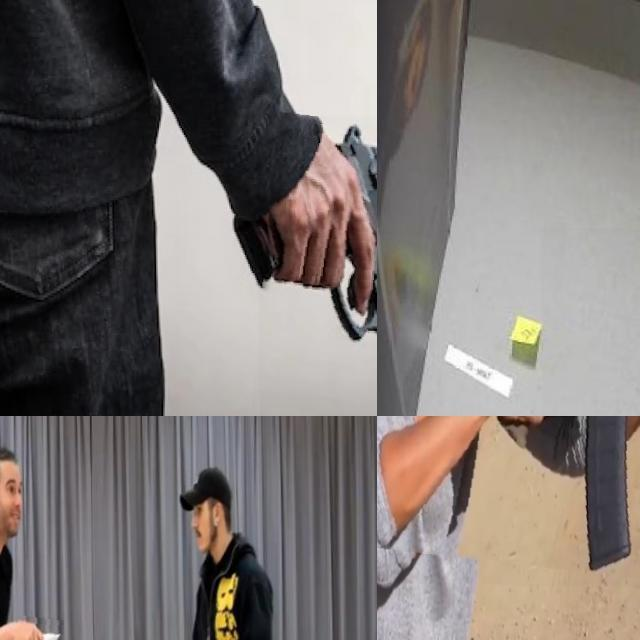-: (539, 226, 640, 416), (14, 615, 63, 640)
gun-knife-thesis - v11 Yolov5 augmented: (377, 416, 640, 637), (254, 114, 377, 416)
